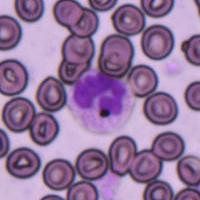N: (68, 67, 135, 134)
